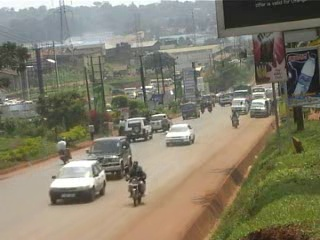Car: (48, 153, 107, 208), (83, 135, 132, 180), (122, 114, 154, 142), (164, 122, 197, 148), (148, 110, 171, 132)
Motorcycle: (124, 159, 149, 208), (56, 136, 75, 166), (228, 107, 243, 129), (159, 112, 172, 131), (205, 97, 214, 114), (198, 100, 207, 116)
